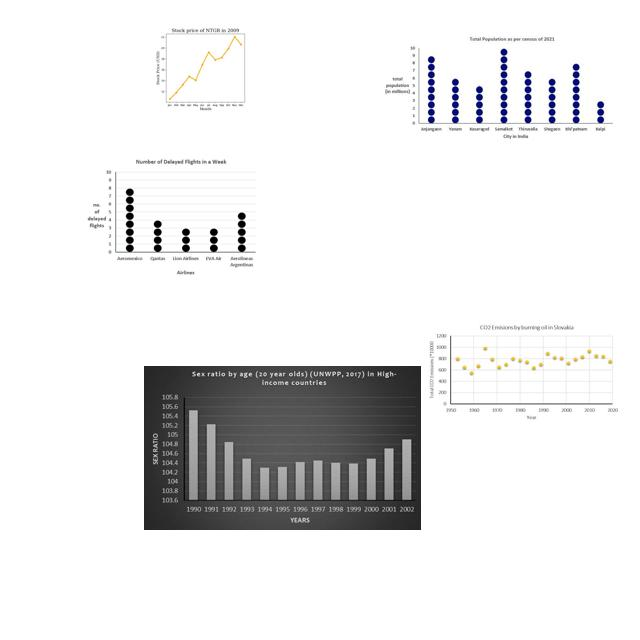Graph: (144, 366, 421, 530), (384, 36, 613, 143), (83, 155, 258, 276), (425, 324, 620, 422), (145, 23, 263, 112)
